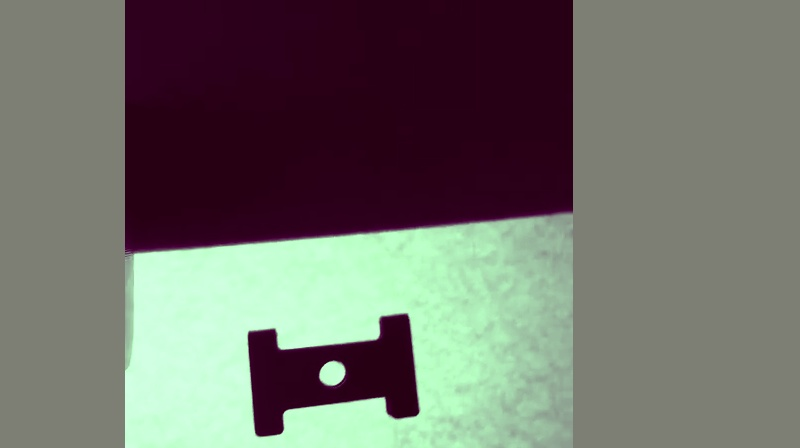O002: (241, 306, 421, 443)
